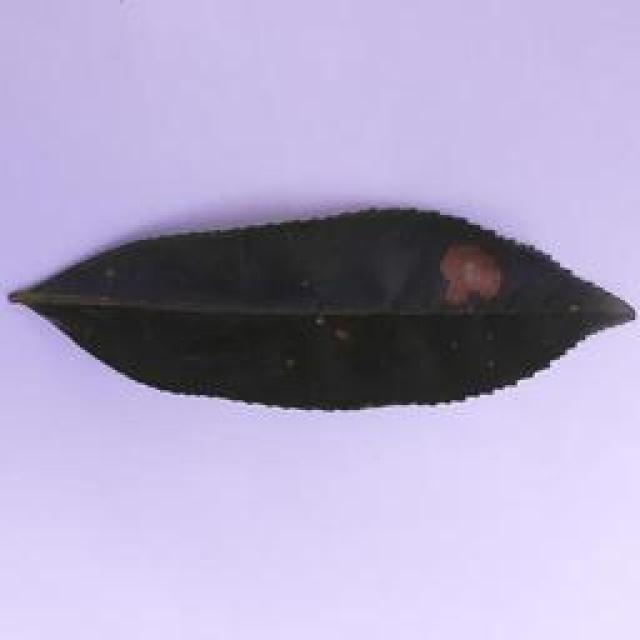Gray Blight: (12, 202, 637, 418)
